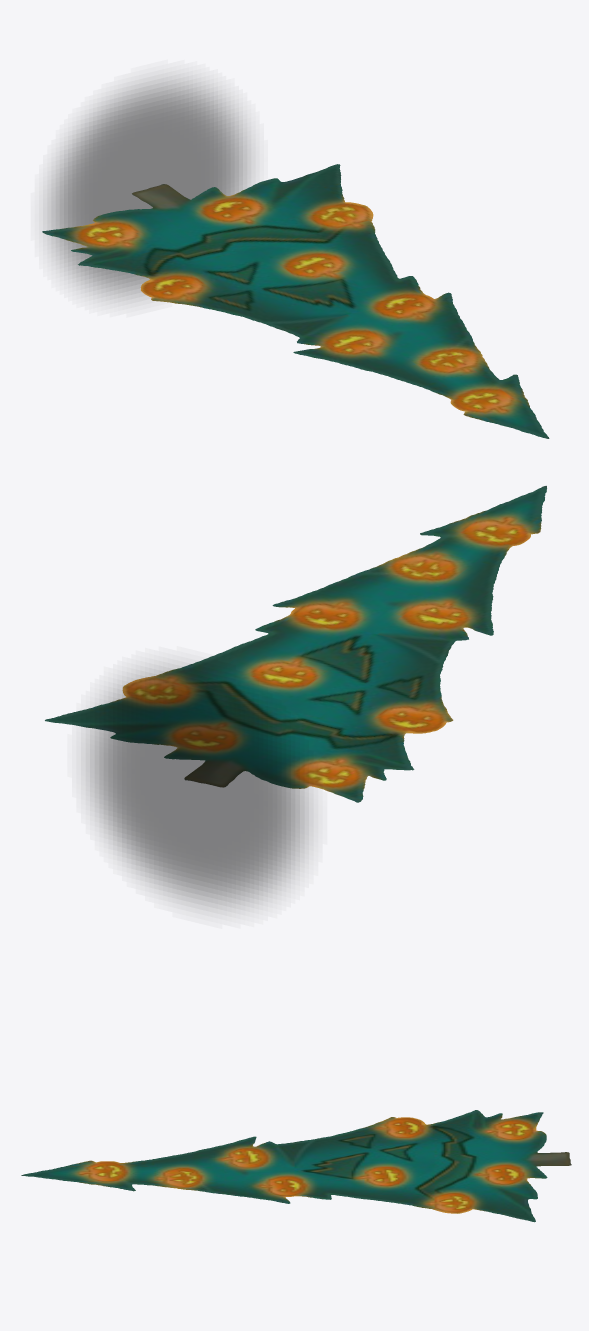
Rendered from prop_snow_tree_large_ur.glb.
3 views of the same model, one above another, from view 1: azimuth 30°, elevation 25°; view 2: azimuth 150°, elevation 25°; view 3: azimuth 270°, elevation 25° (orthographic). The views are drawn at different scales.
Visible parts, largest first — view 1: prop_snow_tree_leaves_large_nobox_ur__billboard, shadow_snow_tree_large_nobox_ur; view 2: prop_snow_tree_leaves_large_nobox_ur__billboard, shadow_snow_tree_large_nobox_ur; view 3: prop_snow_tree_leaves_large_nobox_ur__billboard.
Boxes of the visible parts, x1,y1,x2,y2 form: prop_snow_tree_leaves_large_nobox_ur__billboard: (42, 164, 549, 438); shadow_snow_tree_large_nobox_ur: (47, 77, 250, 300); prop_snow_tree_leaves_large_nobox_ur__billboard: (45, 485, 546, 802); shadow_snow_tree_large_nobox_ur: (86, 665, 308, 910); prop_snow_tree_leaves_large_nobox_ur__billboard: (21, 1110, 571, 1222).
Bounding box in the file's own units: 13.99 × 12.32 × 29.17.
3 materials, 3 textured.
